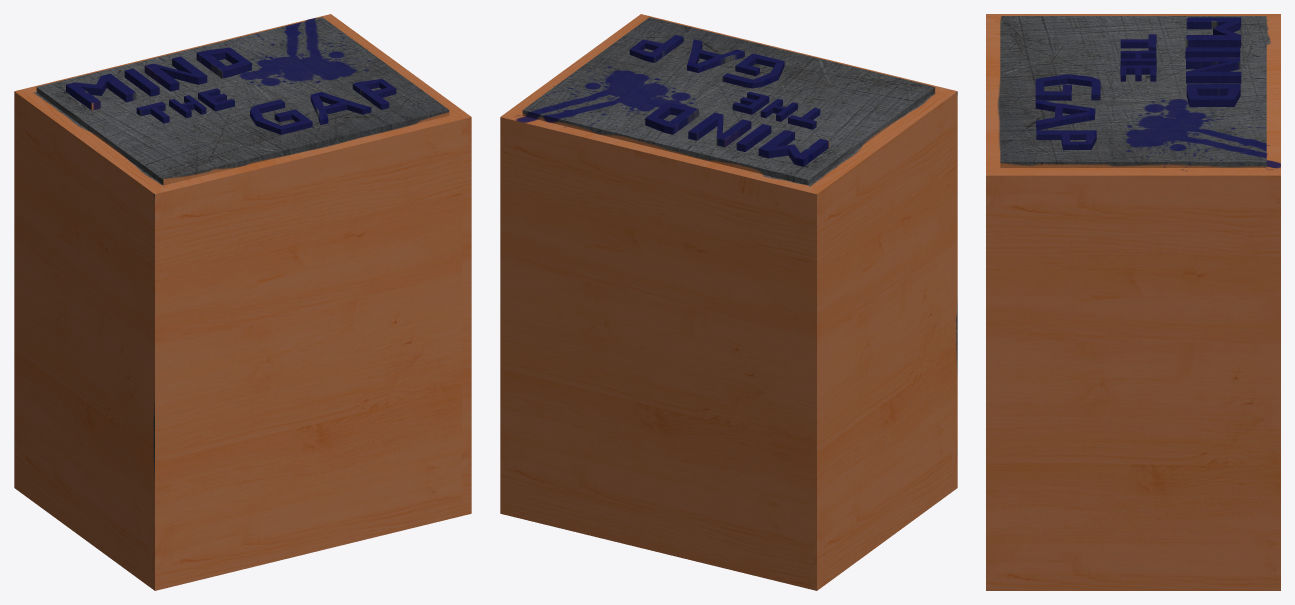
Rendered from druckplatte.fbx.
3 renders of one model, left to right at view 1: azimuth 30°, elevation 25°; view 2: azimuth 150°, elevation 25°; view 3: azimuth 270°, elevation 25°, orthographic. The views are drawn at different scales.
Visible parts, largest first — view 1: druckplatte; view 2: druckplatte; view 3: druckplatte.
Part boxes in pixels (left/top/right/bottom): druckplatte: left=14, top=14, right=471, bottom=590; druckplatte: left=500, top=14, right=957, bottom=590; druckplatte: left=986, top=14, right=1280, bottom=590.
Bounding box in the file's own units: 14.05 × 17.35 × 10.82.
